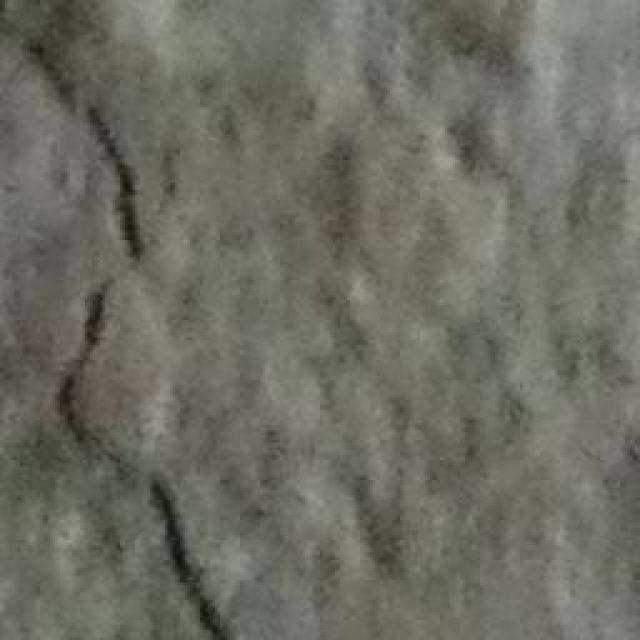Longitudinal: (7, 0, 235, 640)
